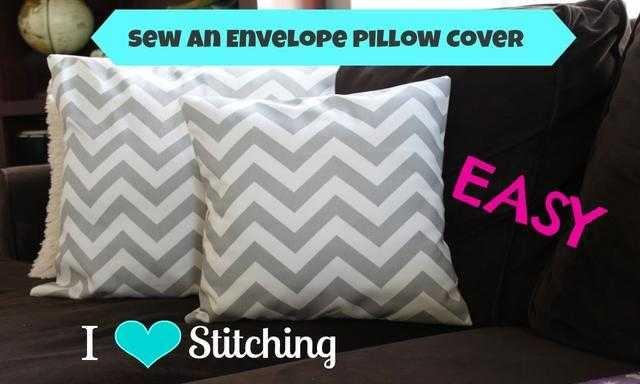pillow: (27, 53, 337, 299), (179, 73, 473, 327)
